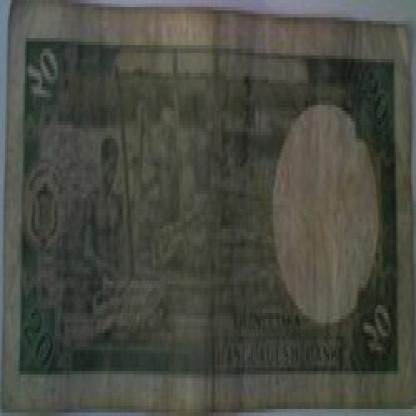Twenty: (27, 28, 63, 111), (359, 309, 396, 364)
